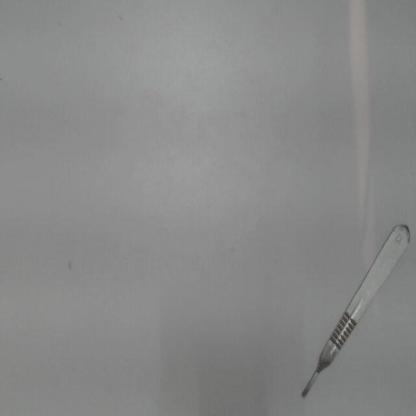No.3 BP Handle: (292, 215, 413, 405)
